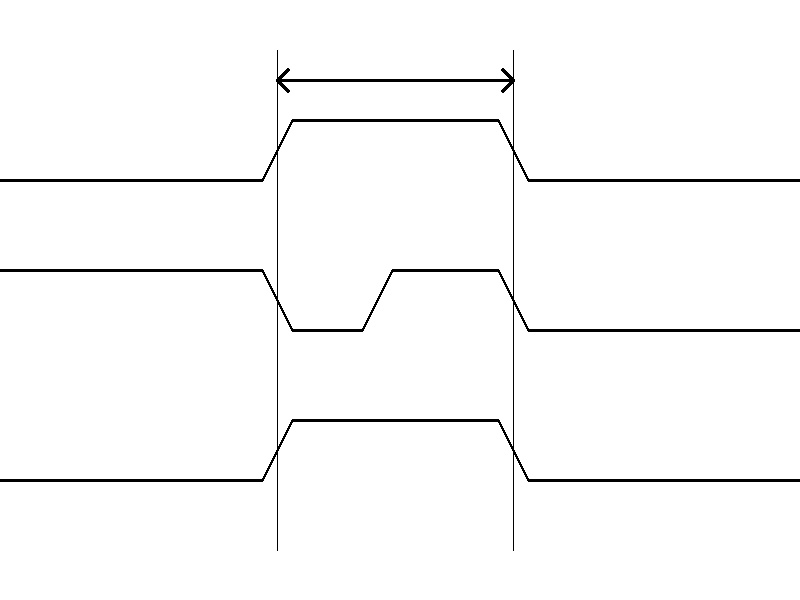double_arrow: (277, 65, 513, 95)
